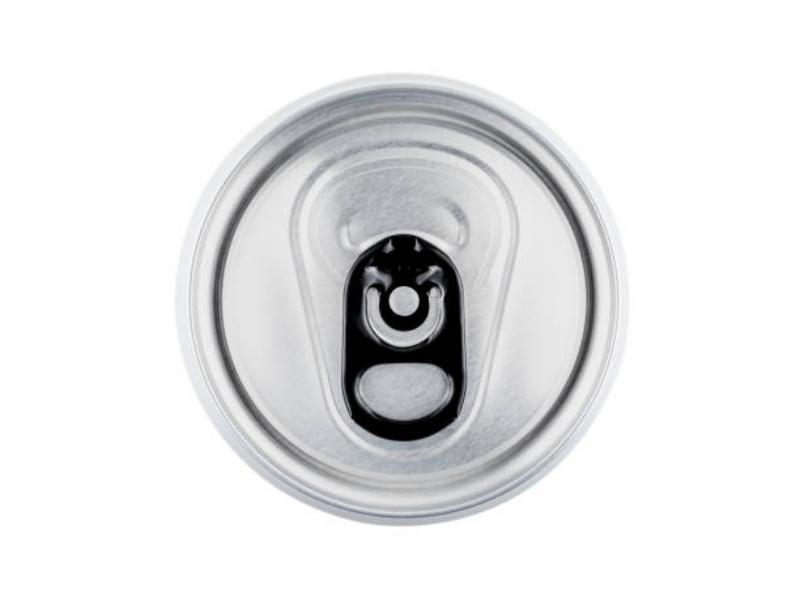can: (166, 66, 644, 538)
